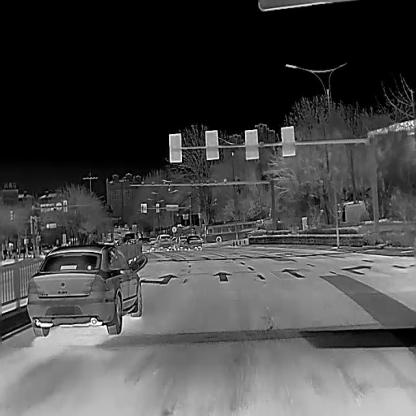bus: (205, 221, 256, 242)
car: (26, 244, 142, 334), (154, 233, 172, 251), (184, 234, 202, 249), (172, 234, 187, 249)
